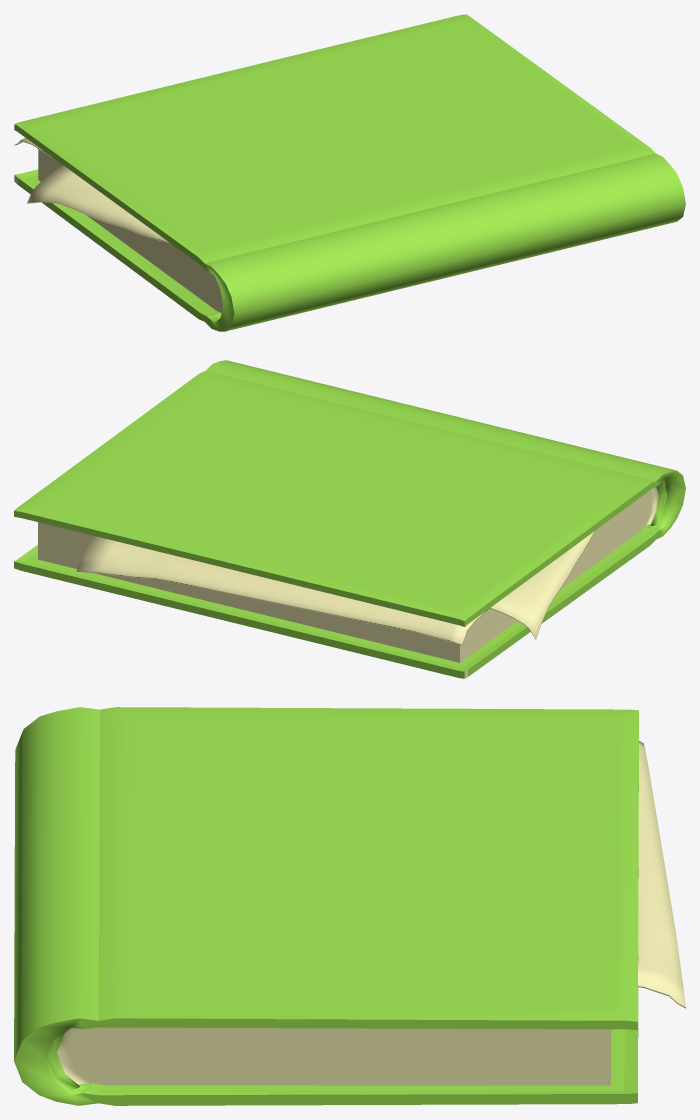
File: book3.fbx
The picture shows the model from 3 angles, top to bottom: view 1: azimuth 30°, elevation 25°; view 2: azimuth 150°, elevation 25°; view 3: azimuth 270°, elevation 25°; orthographic projection. The views are drawn at different scales.
Visible parts, largest first — view 1: Cube.008, Cube.020; view 2: Cube.008, Cube.019, Cube.020; view 3: Cube.008, Cube.019.
Part boxes in pixels (x1,y1,x2,y2): Cube.008: [14, 14, 685, 331]; Cube.020: [27, 165, 169, 242]; Cube.008: [14, 360, 685, 678]; Cube.019: [76, 536, 489, 645]; Cube.020: [490, 531, 594, 639]; Cube.008: [14, 707, 638, 1105]; Cube.019: [638, 741, 685, 1008].
Size of the model in its own units: 697 by 85.78 by 597.
